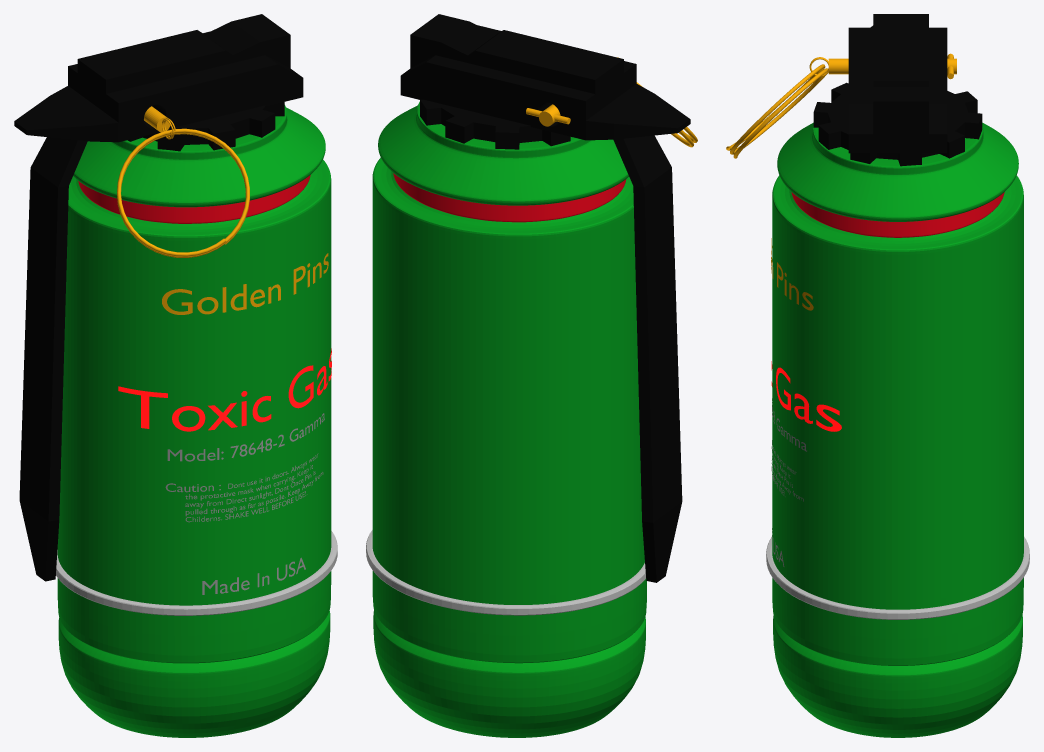
Rendered from Flash.fbx.
3 renders of one model, left to right at view 1: azimuth 30°, elevation 25°; view 2: azimuth 150°, elevation 25°; view 3: azimuth 270°, elevation 25°, orthographic. The views are drawn at different scales.
Visible parts, largest first — view 1: Cylinder, Cube, Cylinder.002, Cylinder.003, Cylinder.001, Text.001, Circle.001, Text.005, Text, Text.002, Text.003; view 2: Cylinder, Cube, Cylinder.003, Cylinder.001, Cylinder.002; view 3: Cylinder, Cube, Cylinder.001, Cylinder.002, Cylinder.003, Circle.001, Text.001.
Part boxes in pixels (x1=…): Cylinder: x1=57, y1=105, x2=331, y2=737; Cube: x1=14, y1=14, x2=303, y2=581; Cylinder.002: x1=56, y1=531, x2=337, y2=615; Cylinder.003: x1=78, y1=175, x2=310, y2=223; Cylinder.001: x1=128, y1=102, x2=284, y2=151; Text.001: x1=118, y1=348, x2=331, y2=431; Circle.001: x1=117, y1=128, x2=249, y2=257; Text.005: x1=185, y1=453, x2=323, y2=522; Text: x1=162, y1=253, x2=328, y2=314; Text.002: x1=167, y1=413, x2=324, y2=461; Text.003: x1=202, y1=557, x2=305, y2=594; Cylinder: x1=372, y1=101, x2=646, y2=737; Cube: x1=400, y1=14, x2=690, y2=582; Cylinder.003: x1=393, y1=173, x2=626, y2=222; Cylinder.001: x1=420, y1=99, x2=570, y2=149; Cylinder.002: x1=366, y1=530, x2=645, y2=615; Cylinder: x1=772, y1=122, x2=1023, y2=737; Cube: x1=848, y1=14, x2=947, y2=153; Cylinder.001: x1=813, y1=82, x2=982, y2=166; Cylinder.002: x1=766, y1=536, x2=1029, y2=619; Cylinder.003: x1=791, y1=192, x2=1004, y2=237; Circle.001: x1=726, y1=64, x2=827, y2=158; Text.001: x1=771, y1=361, x2=841, y2=431.
Size of the model in its own units: 94.97 by 197 by 85.49.
